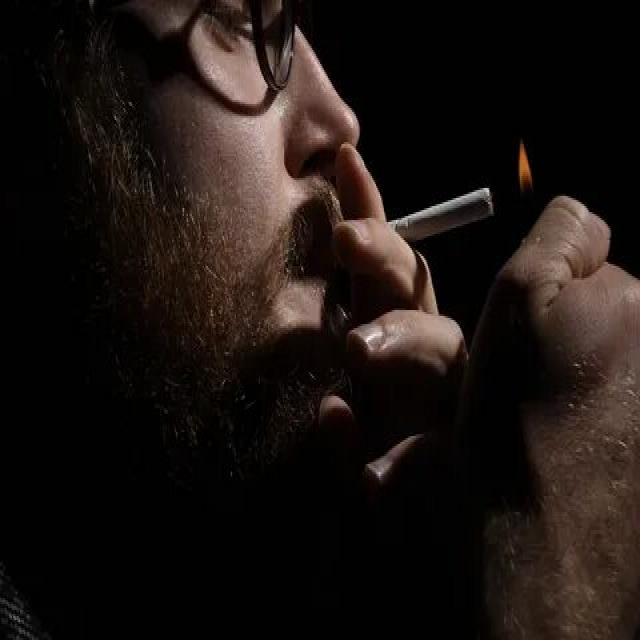cigarette: (379, 176, 500, 256)
